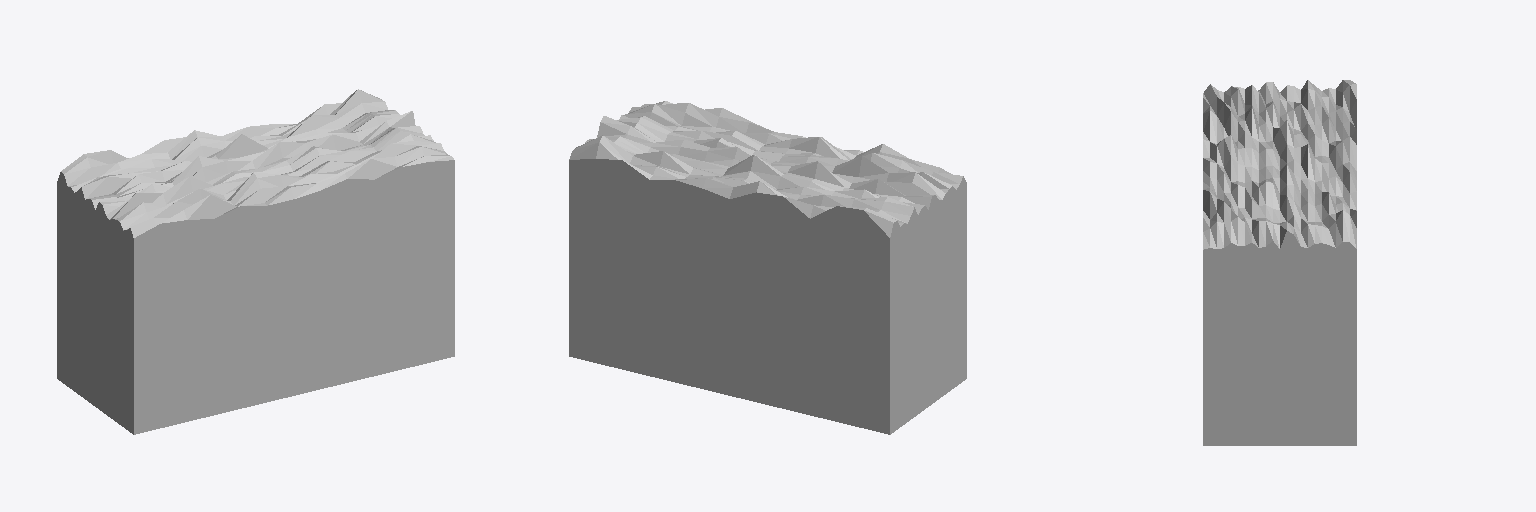
The model's file is terrain.obj.
3 renders of one model, left to right at view 1: azimuth 30°, elevation 25°; view 2: azimuth 150°, elevation 25°; view 3: azimuth 270°, elevation 25°, orthographic.
Parts seen in each view (by area): view 1: terrain_Cube; view 2: terrain_Cube; view 3: terrain_Cube.
Part boxes in pixels (bbox=[...]): terrain_Cube: bbox=[57, 89, 454, 434]; terrain_Cube: bbox=[569, 101, 966, 434]; terrain_Cube: bbox=[1203, 80, 1356, 445].
Bounding box in the file's own units: 207 × 138 × 85.77.